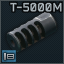Orsis T-5000M muzzle brake: (0, 0, 64, 64)
